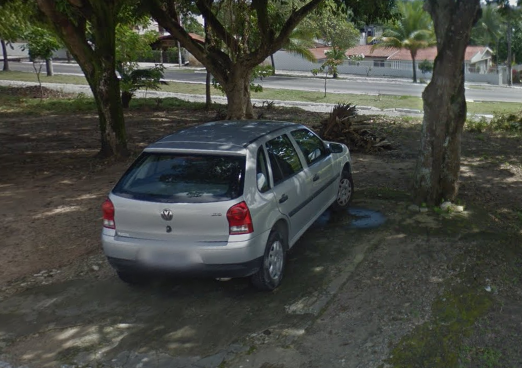car: (93, 115, 358, 297)
